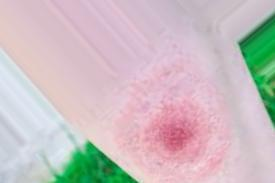Tick: (116, 82, 229, 177)
